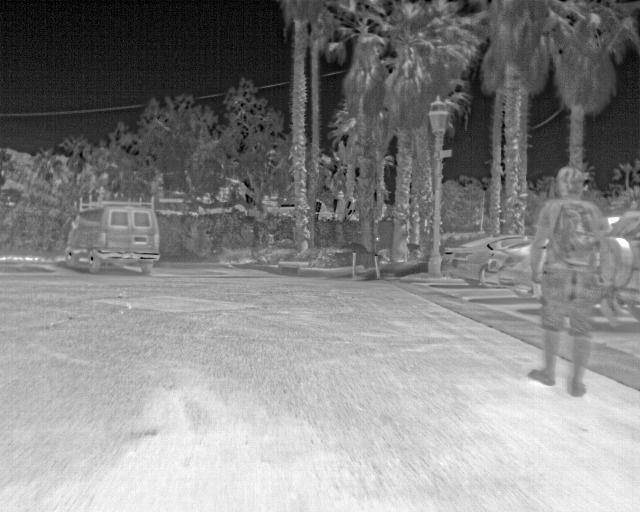bicycle: (439, 234, 532, 287), (609, 209, 639, 314), (478, 242, 533, 297)
empty: (527, 165, 607, 395)
